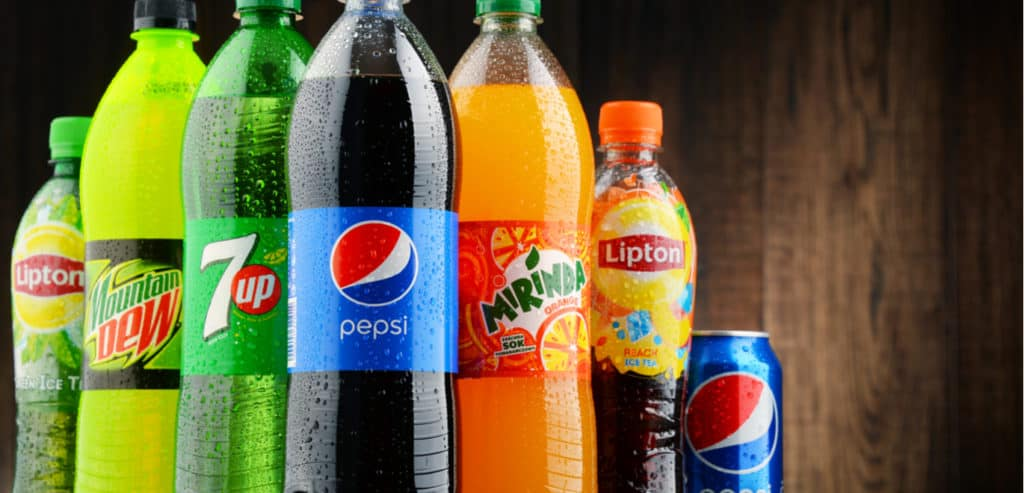pepsi: (687, 370, 776, 472), (327, 217, 417, 306)
